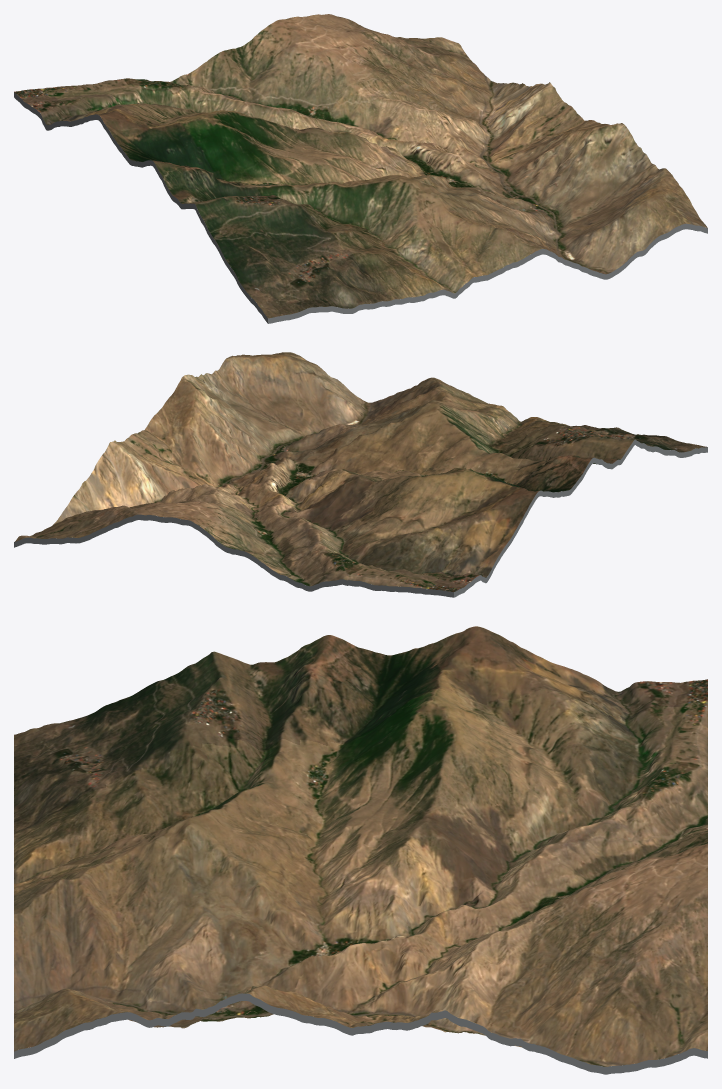
The picture shows the model from 3 angles, top to bottom: view 1: azimuth 30°, elevation 25°; view 2: azimuth 150°, elevation 25°; view 3: azimuth 270°, elevation 25°; orthographic projection. The views are drawn at different scales.
Visible parts, largest first — view 1: terrain, skirt; view 2: terrain, skirt; view 3: terrain, skirt.
Part boxes in pixels (box(x1,y1,x2,y2)): terrain: box(14, 14, 707, 318); skirt: box(14, 92, 707, 323); terrain: box(15, 352, 706, 591); skirt: box(14, 439, 707, 597); terrain: box(14, 626, 707, 1066); skirt: box(14, 993, 707, 1074).
Bounding box in the file's own units: 7500 × 2010 × 7500.
1 material, 1 textured.
